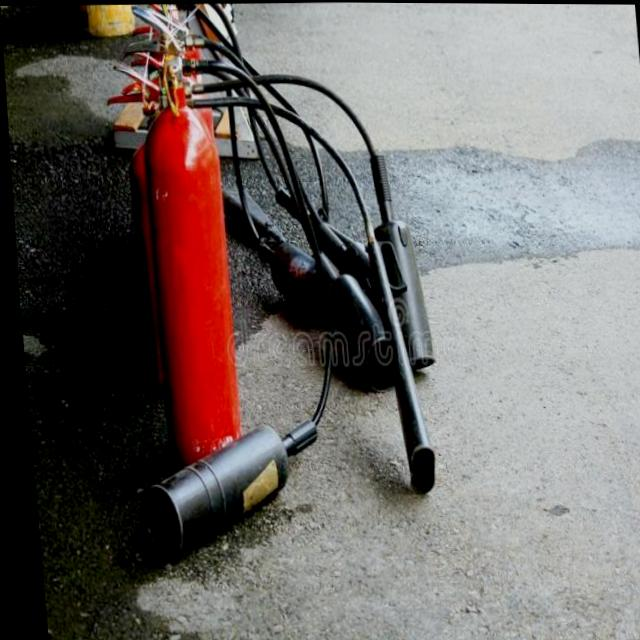FireExtinguisher: (114, 1, 439, 539)
